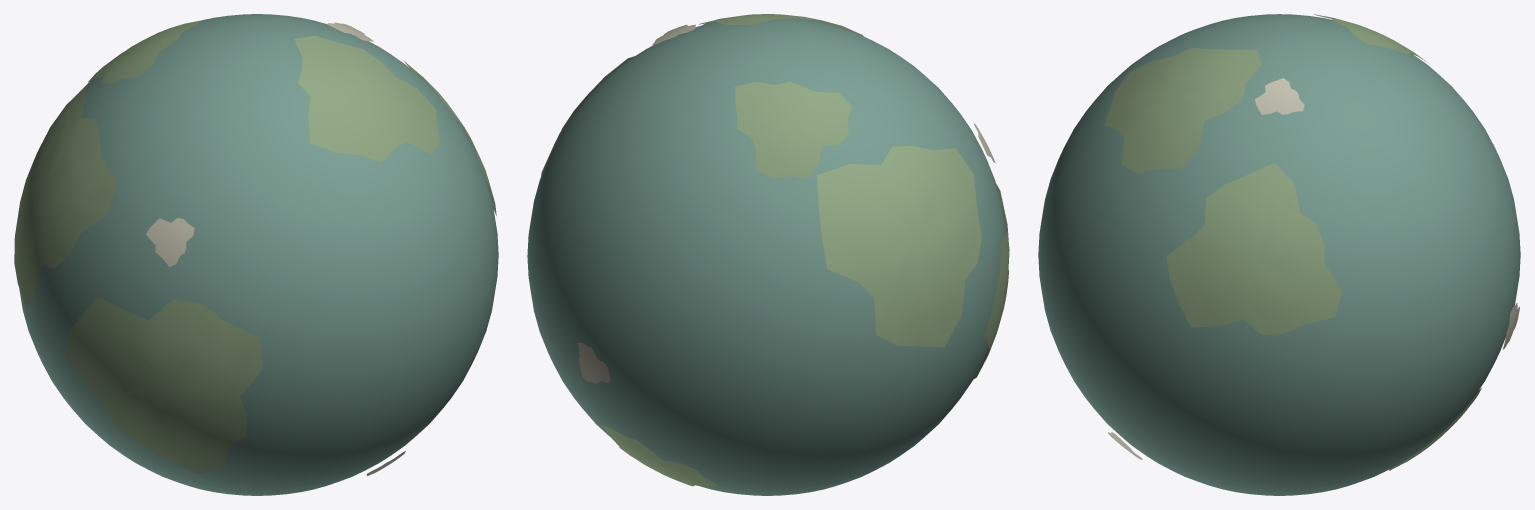
The model's file is planet_04.glb.
3 renders of one model, left to right at view 1: azimuth 30°, elevation 25°; view 2: azimuth 150°, elevation 25°; view 3: azimuth 270°, elevation 25°, orthographic.
Parts seen in each view (by area): view 1: planet_04_painted_mesh; view 2: planet_04_painted_mesh; view 3: planet_04_painted_mesh.
Part boxes in pixels (x1=…): planet_04_painted_mesh: x1=14, y1=14, x2=498, y2=495; planet_04_painted_mesh: x1=527, y1=14, x2=1009, y2=495; planet_04_painted_mesh: x1=1038, y1=14, x2=1520, y2=495.
Size of the model in its own units: 2.01 by 2 by 2.
